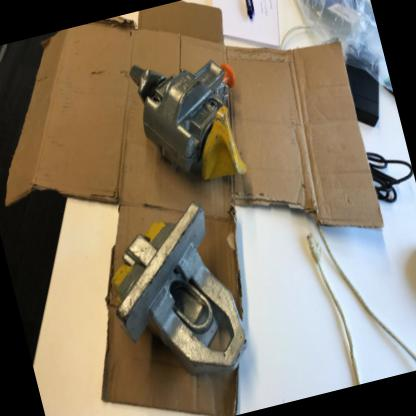Twistlock: (86, 188, 266, 402), (124, 29, 272, 198)
